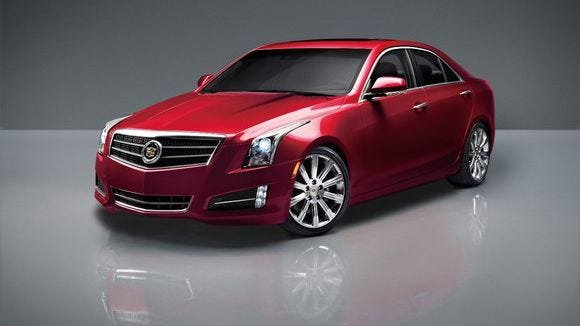car: (96, 36, 500, 240)
